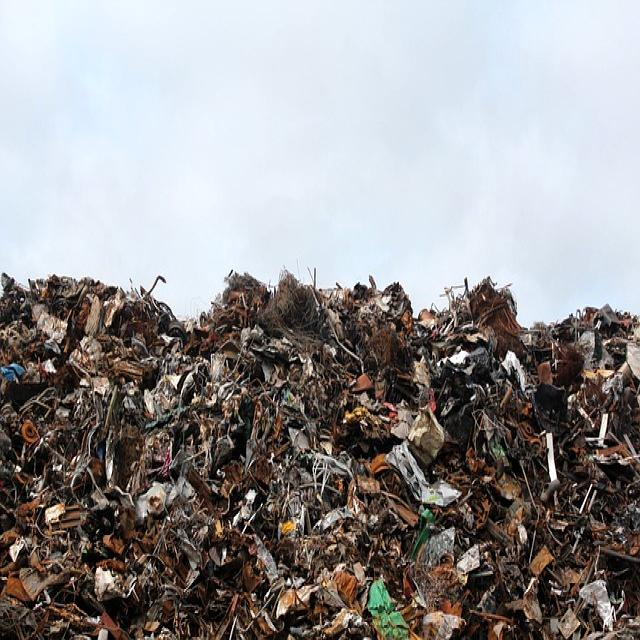Garbage: (0, 280, 640, 640)
